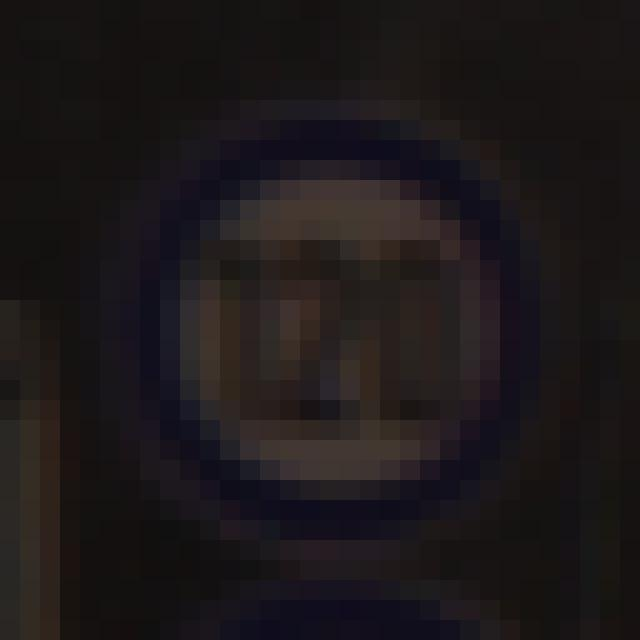SPEED LIMIT 120: (125, 128, 537, 510)
